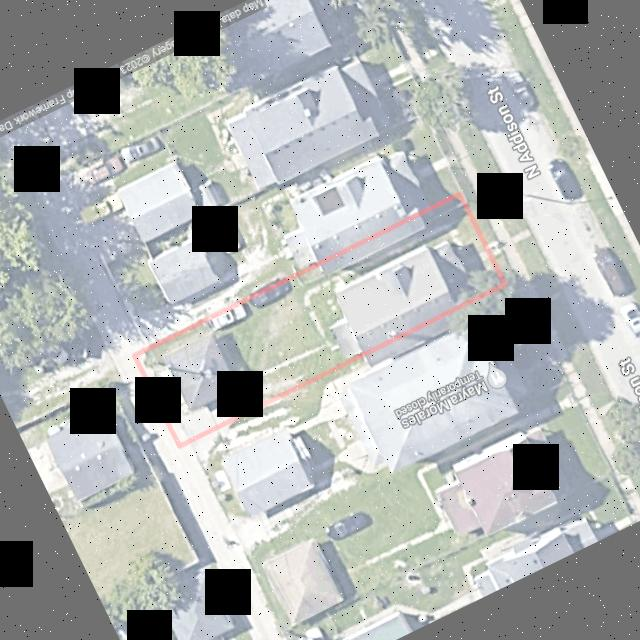Driveway: (138, 302, 264, 441), (453, 243, 488, 276)
Extra Driveway: (488, 227, 533, 255)
Extra Lawn: (482, 173, 530, 236), (461, 186, 498, 244), (515, 234, 549, 276), (494, 249, 519, 285)
Extra Sidewalk: (473, 182, 509, 239), (504, 244, 530, 280)
House: (336, 247, 454, 349)
Other: (320, 216, 425, 275), (164, 335, 239, 408), (430, 242, 467, 286), (331, 318, 361, 357)
Sidewalk: (327, 221, 463, 292), (250, 342, 331, 379), (303, 280, 331, 347)
